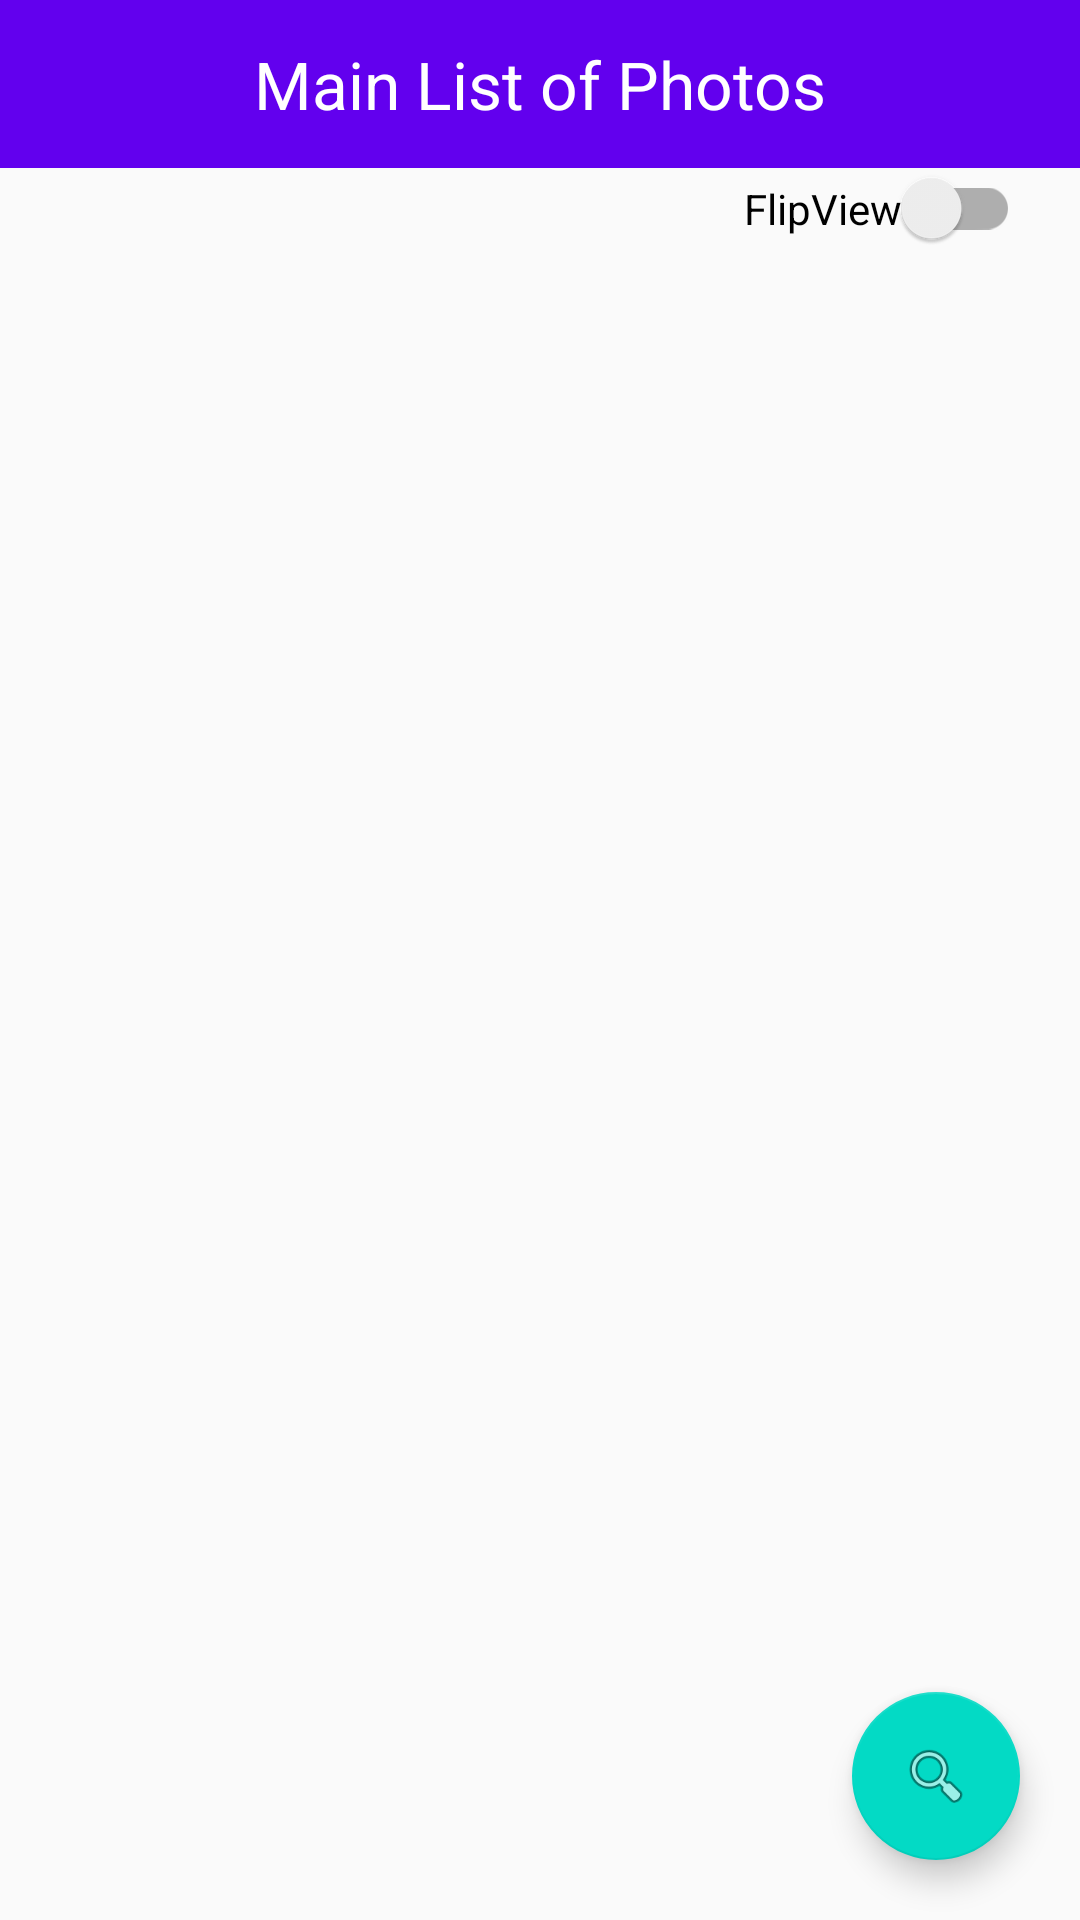

Icon bounding boxes for this 1080×1920 phone screenshot, format {"x1": x1, "y1": y1, "x2": x2, "y2": y2}:
search: {"x1": 852, "y1": 1692, "x2": 1020, "y2": 1860}
